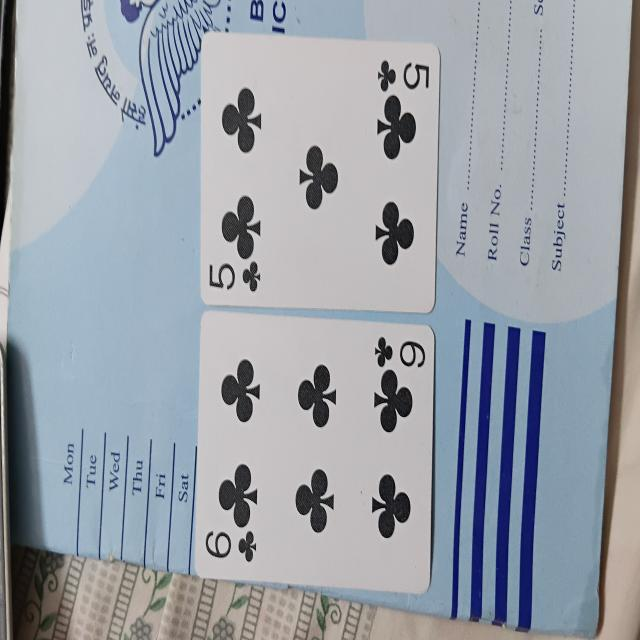5C: (200, 31, 441, 309)
6C: (201, 316, 432, 590)
